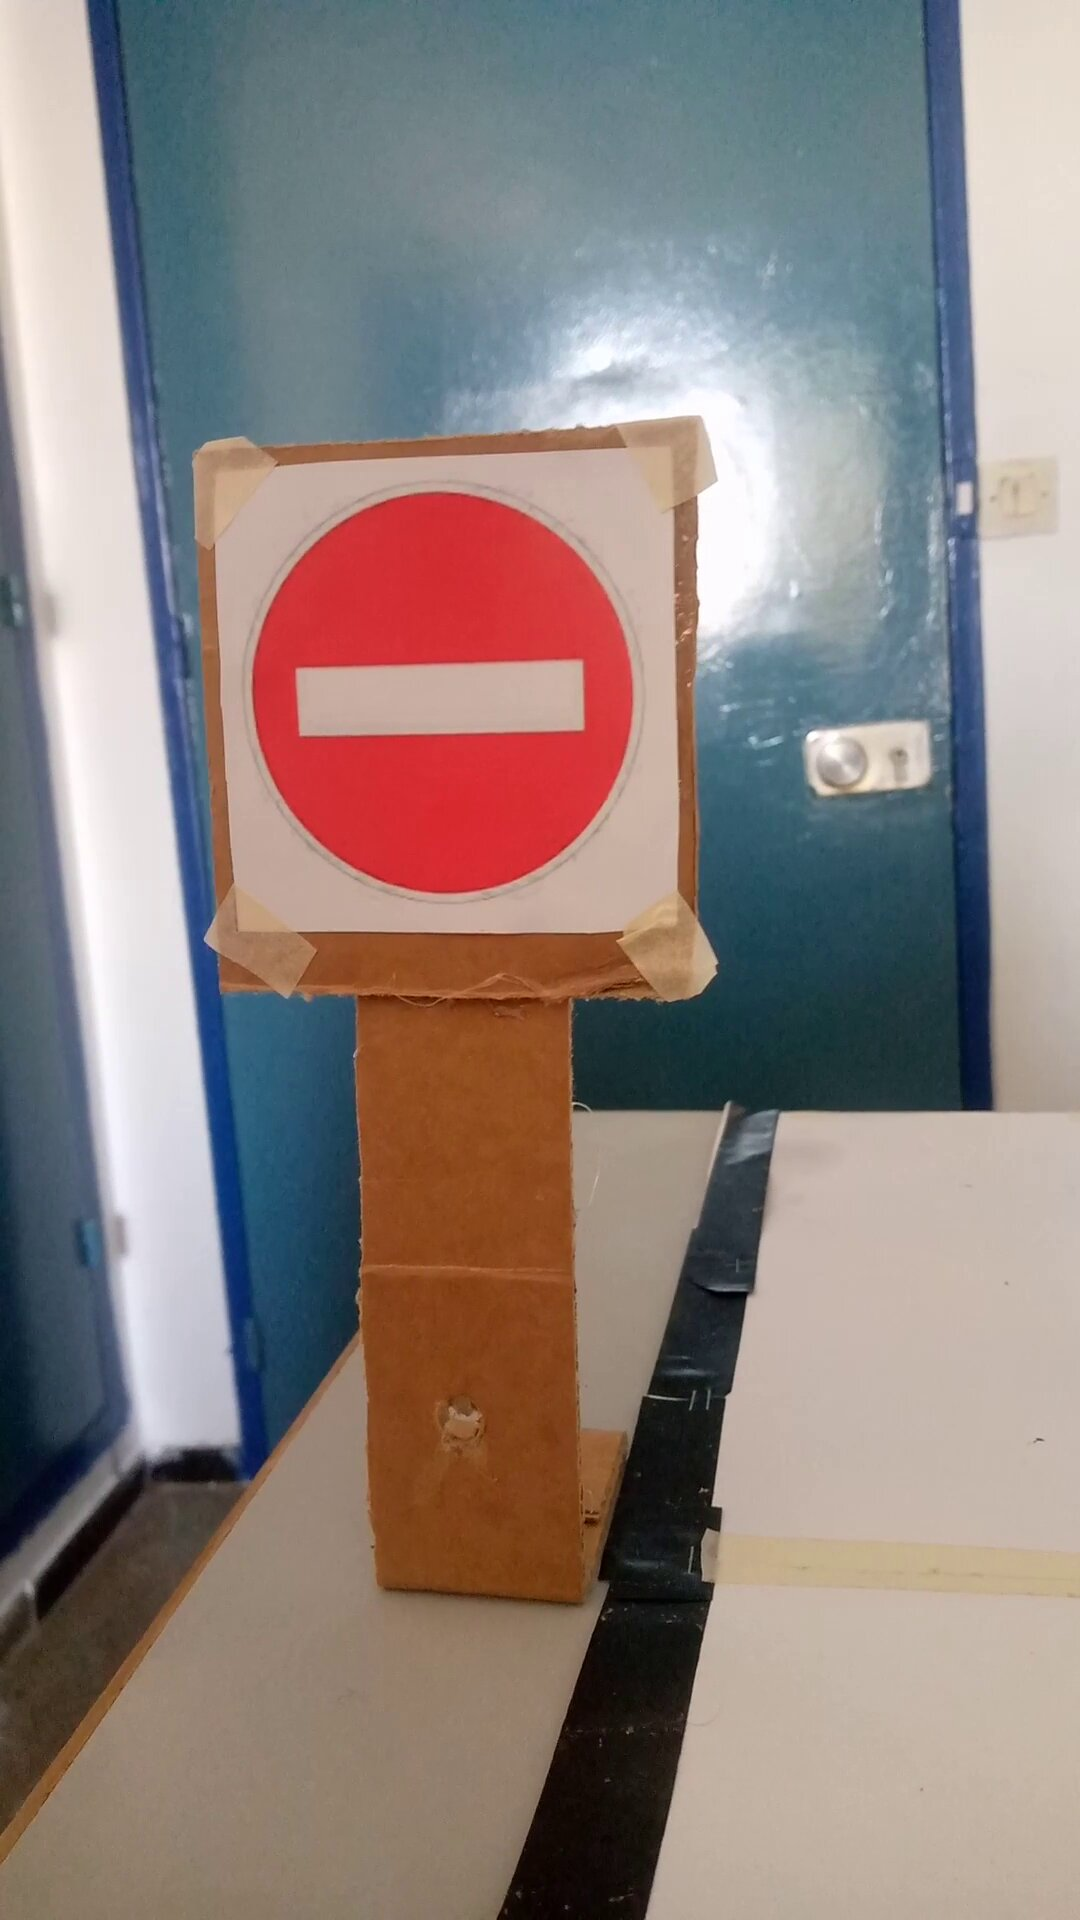panel010: (222, 465, 687, 934)
